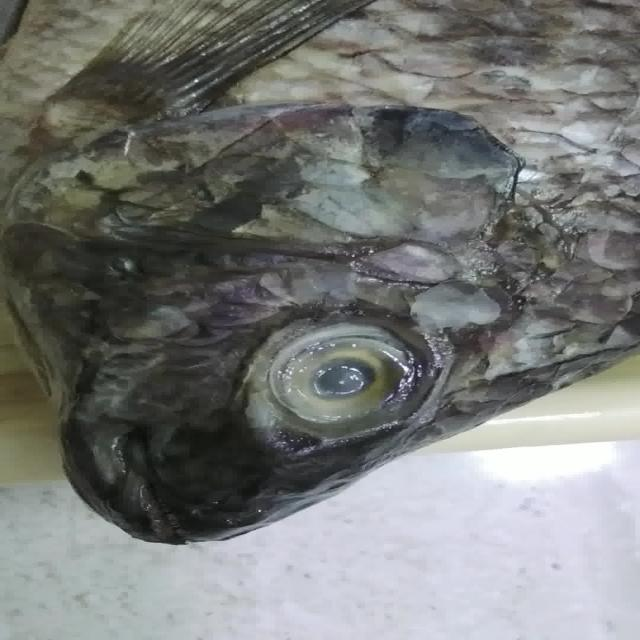Non-Fresh: (259, 316, 454, 458)
